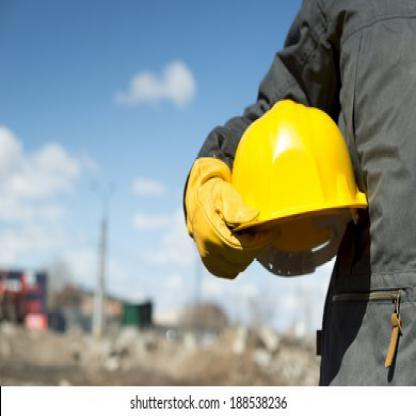Gloves: (184, 155, 274, 280)
